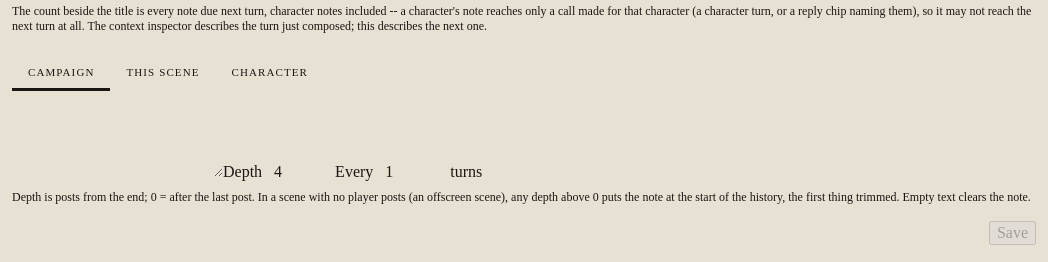
Test: AuthorsNotesPanel › re-reads the notes when the scene is renamed under it
Expected: the text box named "Author's note" is shown, top-left (12, 113), bottom-right (223, 177)
Click the tab "This scene" at (163, 74), box top-left (110, 56), bottom-right (216, 91)
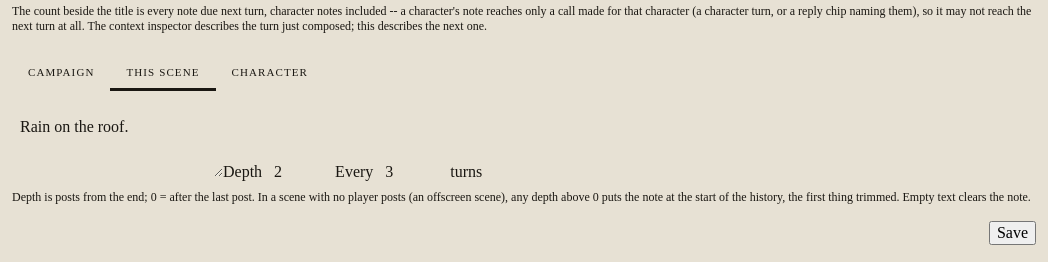
Now the text box named "Author's note" holds "Rain on the roof.", box top-left (12, 113), bottom-right (223, 177)
